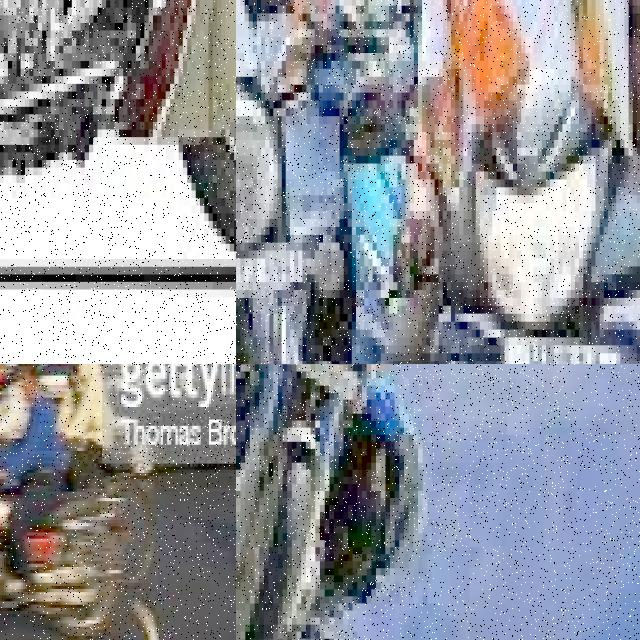bike: (0, 0, 236, 289), (422, 61, 640, 364), (236, 364, 450, 640), (290, 0, 422, 364), (236, 37, 339, 364), (0, 470, 129, 640)
